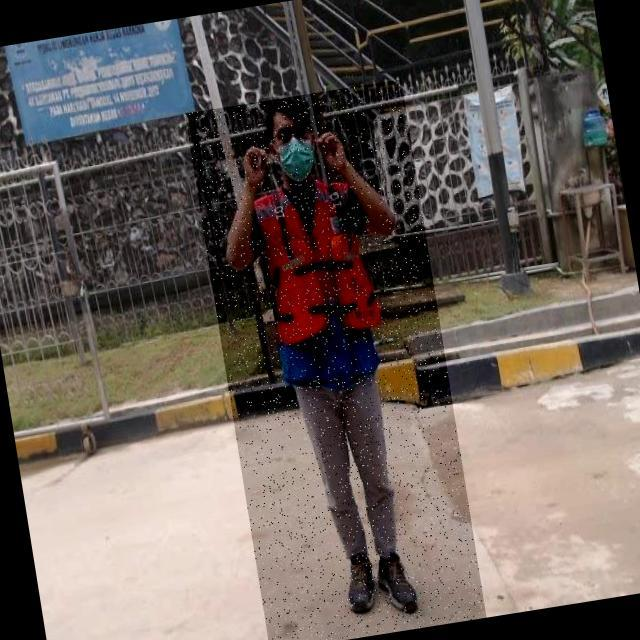Person: (200, 85, 443, 628)
Safety Boot: (372, 548, 423, 621), (341, 550, 381, 618)
Safety Vest: (252, 176, 388, 388)
bare-arms: (235, 139, 269, 192), (314, 130, 350, 179)
